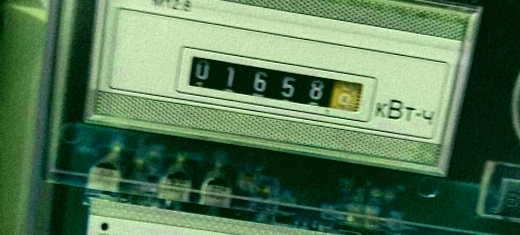0: (192, 57, 212, 80)
1: (222, 62, 239, 88)
5: (279, 73, 298, 99)
6: (250, 68, 271, 94)
8: (307, 77, 327, 101)
9: (334, 89, 353, 112)
screen: (170, 41, 383, 127)
